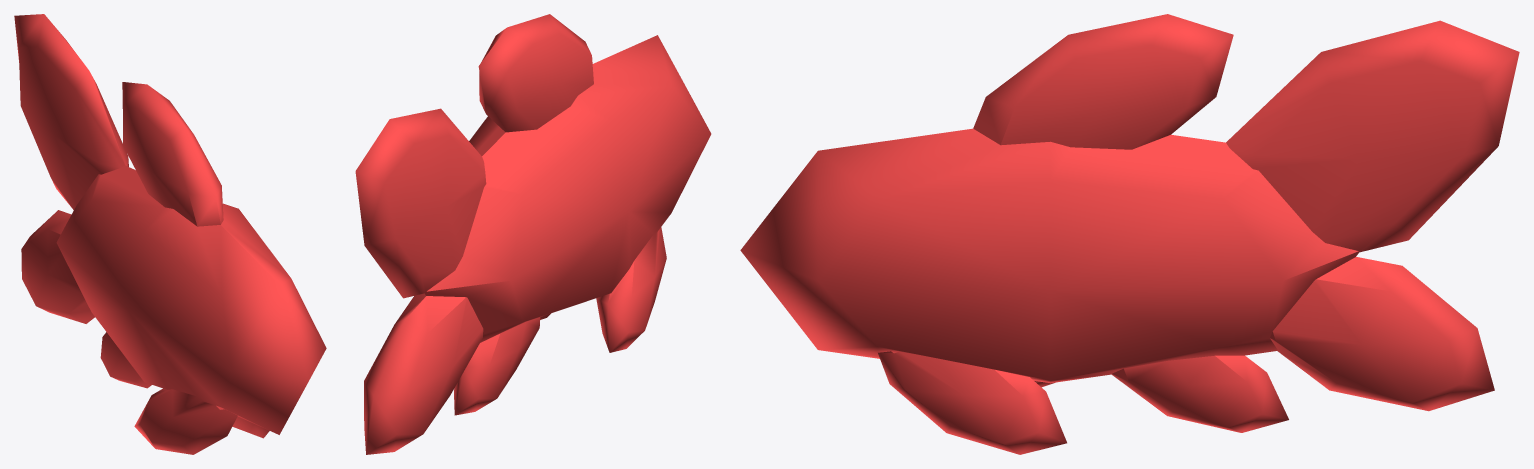
The model's file is fish1.gltf.
3 renders of one model, left to right at view 1: azimuth 30°, elevation 25°; view 2: azimuth 150°, elevation 25°; view 3: azimuth 270°, elevation 25°, orthographic. The views are drawn at different scales.
Size of the model in its own units: 0.6552 by 1.58 by 2.66.
